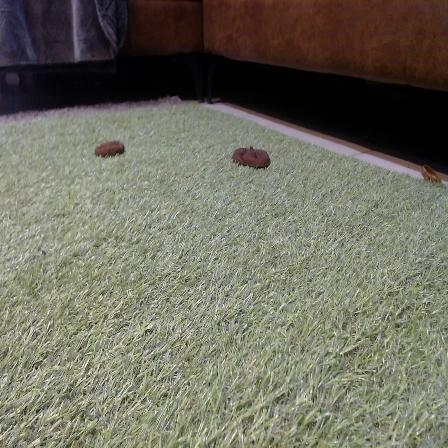dog-poop: (232, 145, 270, 169), (89, 136, 127, 158)
